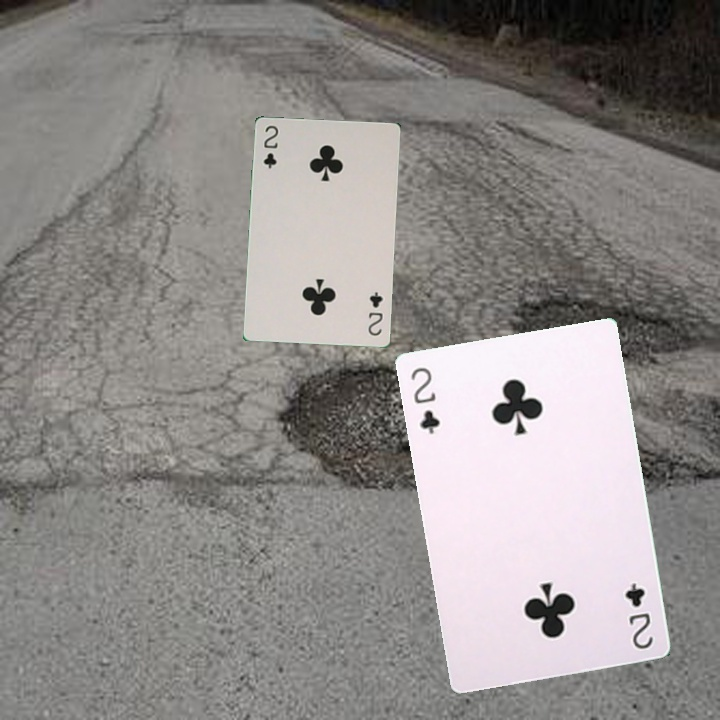2c: (407, 363, 442, 437), (621, 578, 656, 652), (259, 122, 281, 171), (364, 288, 385, 338)
